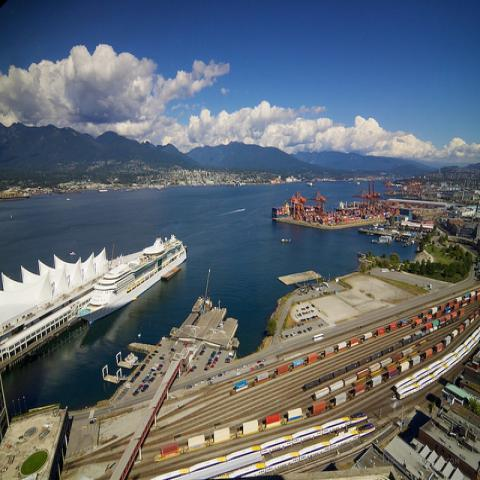car: (135, 384, 149, 393), (148, 376, 155, 384), (132, 391, 138, 396), (159, 356, 164, 360), (157, 367, 161, 371), (210, 364, 214, 368), (216, 355, 220, 358), (305, 311, 308, 314), (153, 373, 156, 376)
